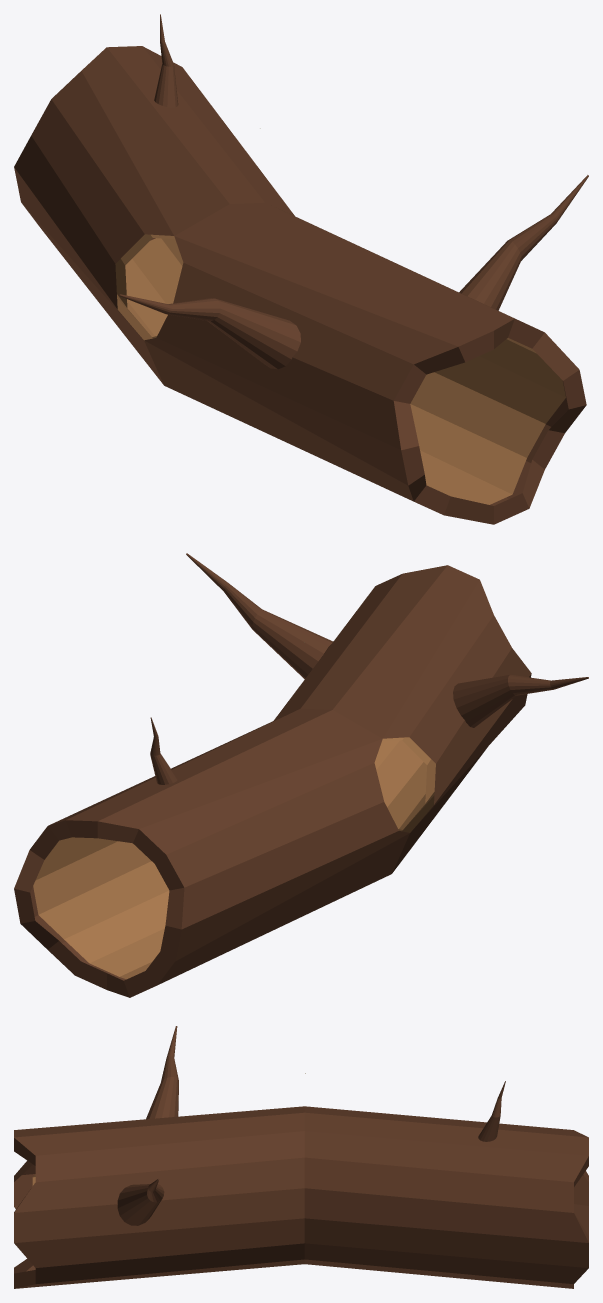
File: PrincipaisAssets_TroncoCaído1.fbx
3 renders of one model, top to bottom at view 1: azimuth 30°, elevation 25°; view 2: azimuth 150°, elevation 25°; view 3: azimuth 270°, elevation 25°, orthographic. The views are drawn at different scales.
Visible parts, largest first — view 1: Cenário_Cemitério_Tronco1; view 2: Cenário_Cemitério_Tronco1; view 3: Cenário_Cemitério_Tronco1.
Part boxes in pixels (x1,y1,x2,y2): Cenário_Cemitério_Tronco1: (14, 14, 588, 524); Cenário_Cemitério_Tronco1: (14, 553, 588, 997); Cenário_Cemitério_Tronco1: (14, 1026, 588, 1288).
Size of the model in its own units: 493 by 277 by 723.
